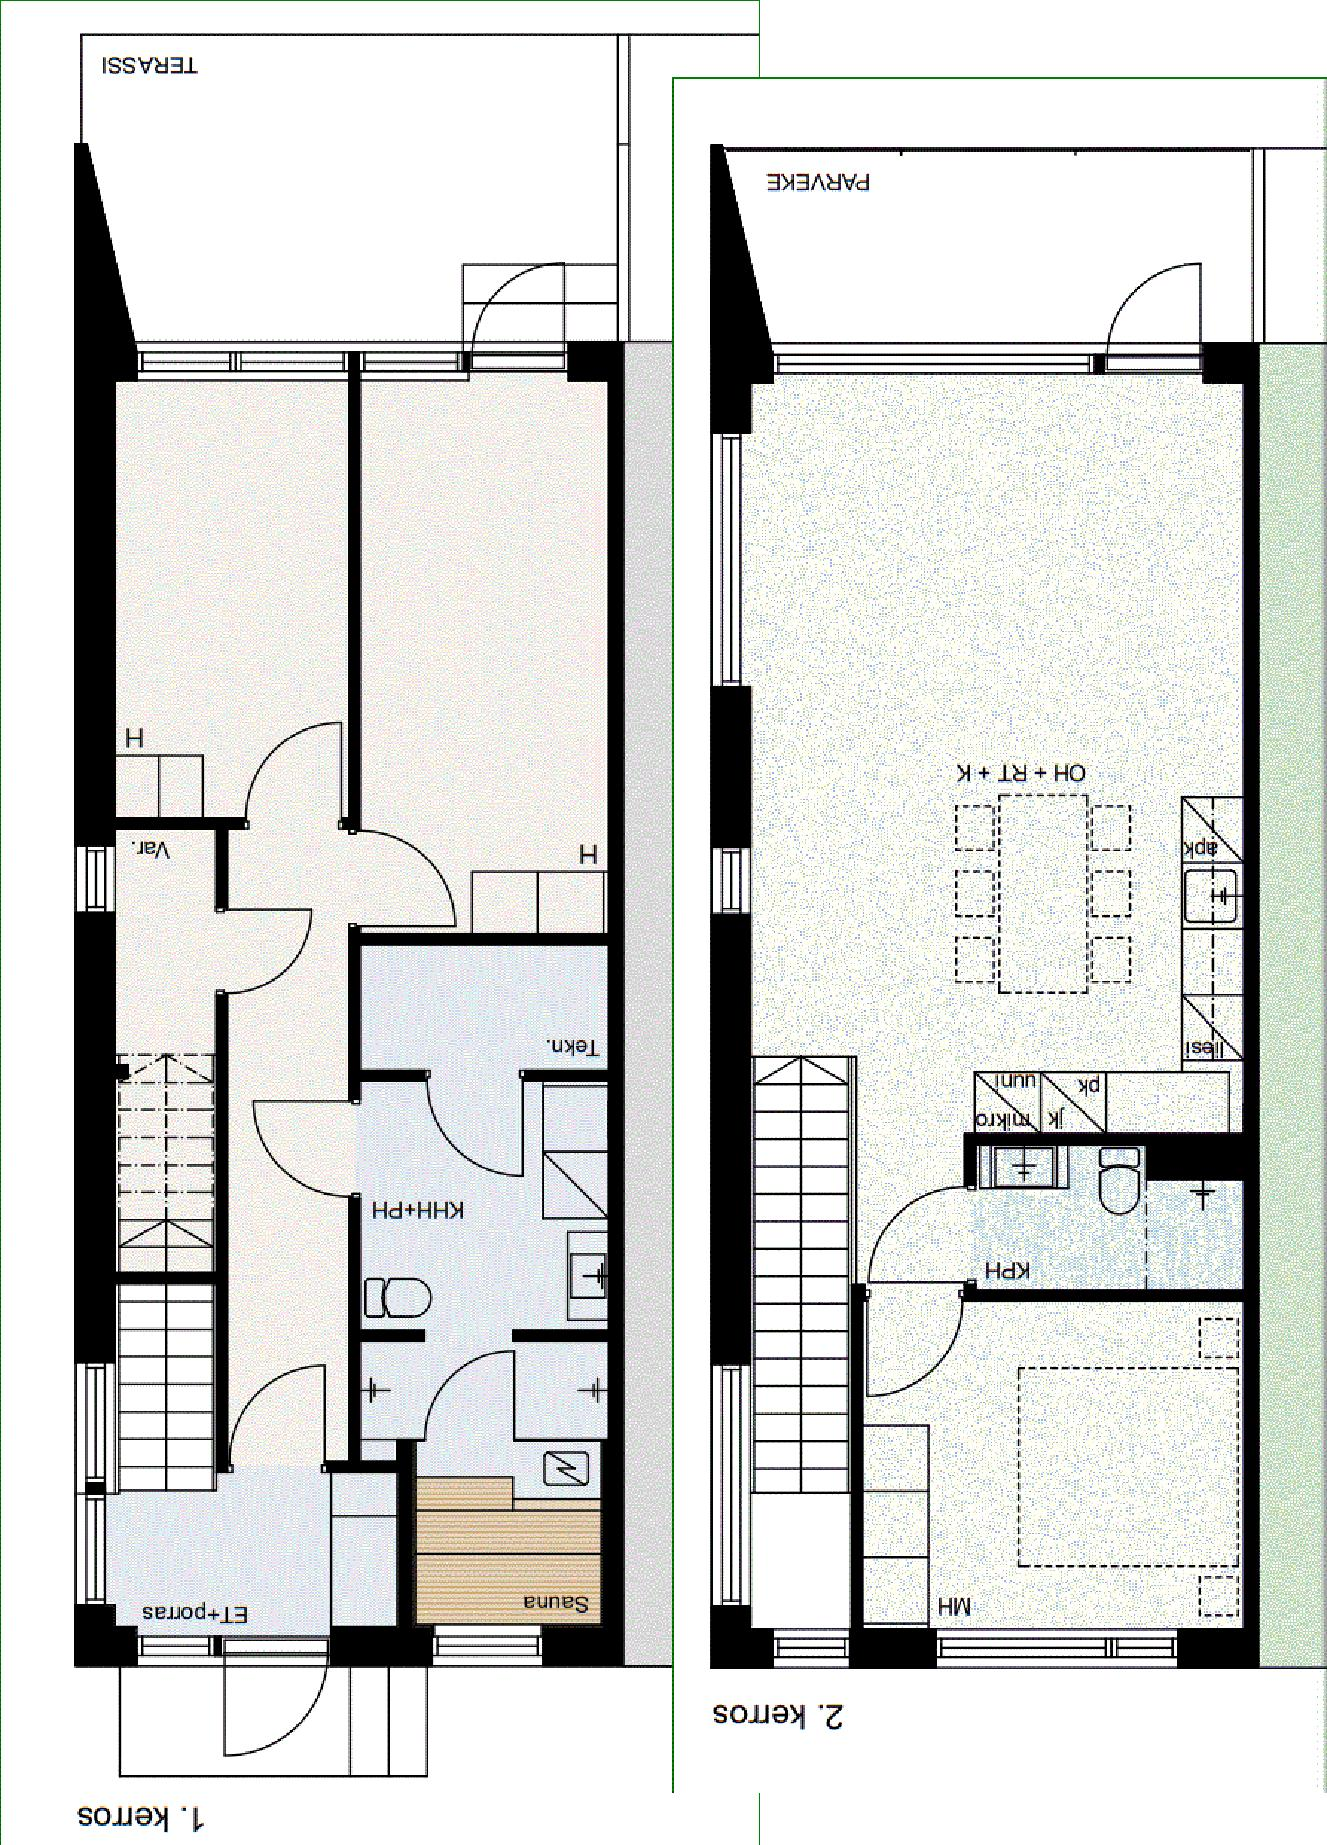door: (866, 1179, 967, 1395), (1103, 245, 1212, 391), (353, 834, 476, 941), (460, 256, 566, 380), (222, 1643, 330, 1752), (254, 713, 350, 831), (259, 1102, 363, 1210), (424, 1073, 527, 1177), (234, 1364, 340, 1465), (424, 1331, 520, 1441), (218, 910, 322, 998)
window: (772, 342, 1105, 380), (714, 433, 760, 695), (709, 1354, 751, 1604), (934, 1629, 1192, 1667), (140, 348, 351, 392), (67, 1364, 115, 1500), (426, 1623, 542, 1665), (75, 1498, 115, 1599), (350, 345, 456, 381), (772, 1632, 848, 1665), (77, 848, 112, 918), (139, 1629, 209, 1660), (712, 852, 747, 912)
zone: (749, 372, 1237, 1285), (82, 33, 633, 358), (357, 391, 603, 937), (864, 1281, 1245, 1632), (709, 150, 1255, 348), (112, 382, 347, 824), (365, 945, 608, 1335), (232, 829, 364, 1473), (109, 824, 221, 1500), (368, 1344, 621, 1622), (749, 1061, 863, 1639), (102, 1465, 401, 1622), (980, 1139, 1252, 1298), (120, 1666, 428, 1772)
